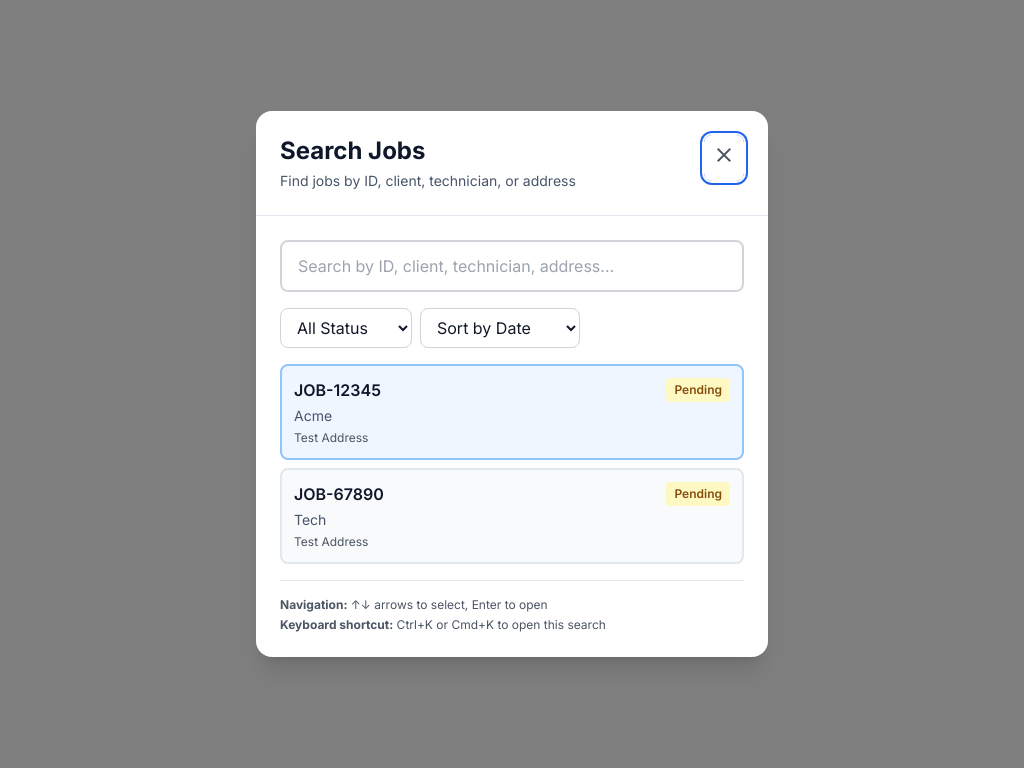
Test: QuickSearchModal › searches by job ID
The image size is (1024, 768).
Type "12345" into the field with placeholder "Search by ID, client, technician, address...".
click(512, 266); type("12345")  # box 280,240 -> 744,292
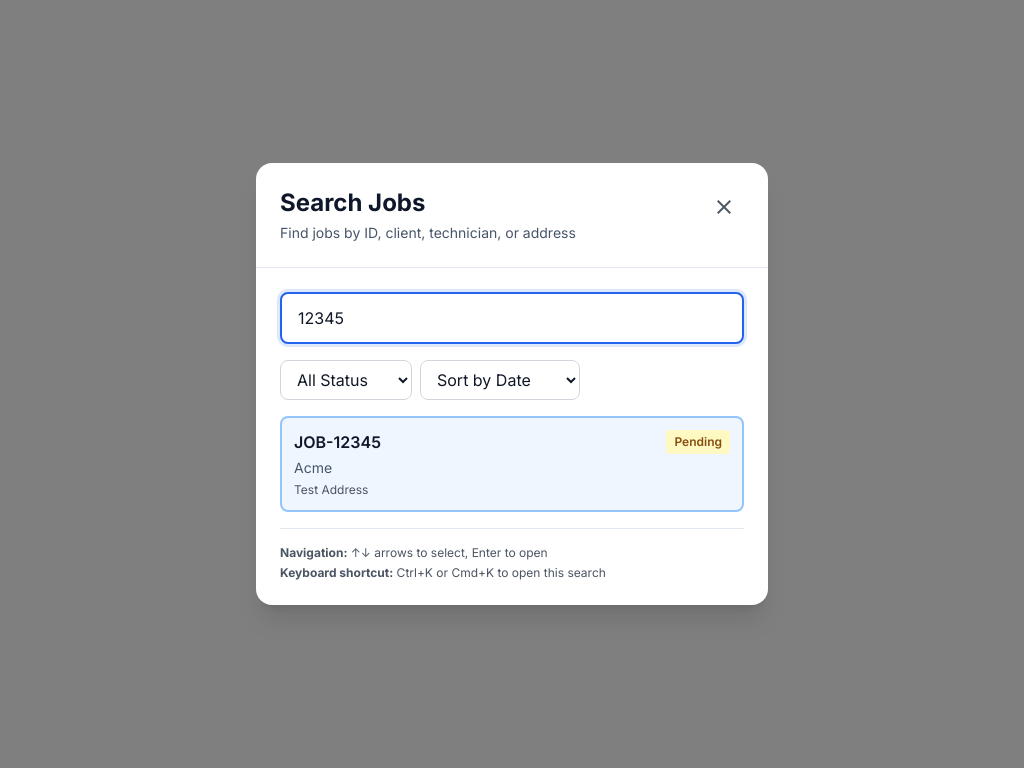
Expected: the text "JOB-12345" is shown, 294,432 -> 381,452
Now the button "JOB-67890" is gone
